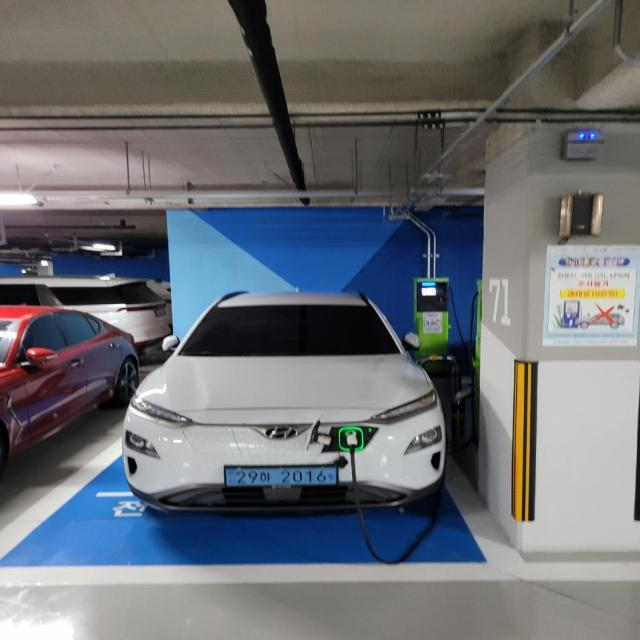EV_plate: (217, 462, 345, 496)
car: (114, 278, 461, 524)
